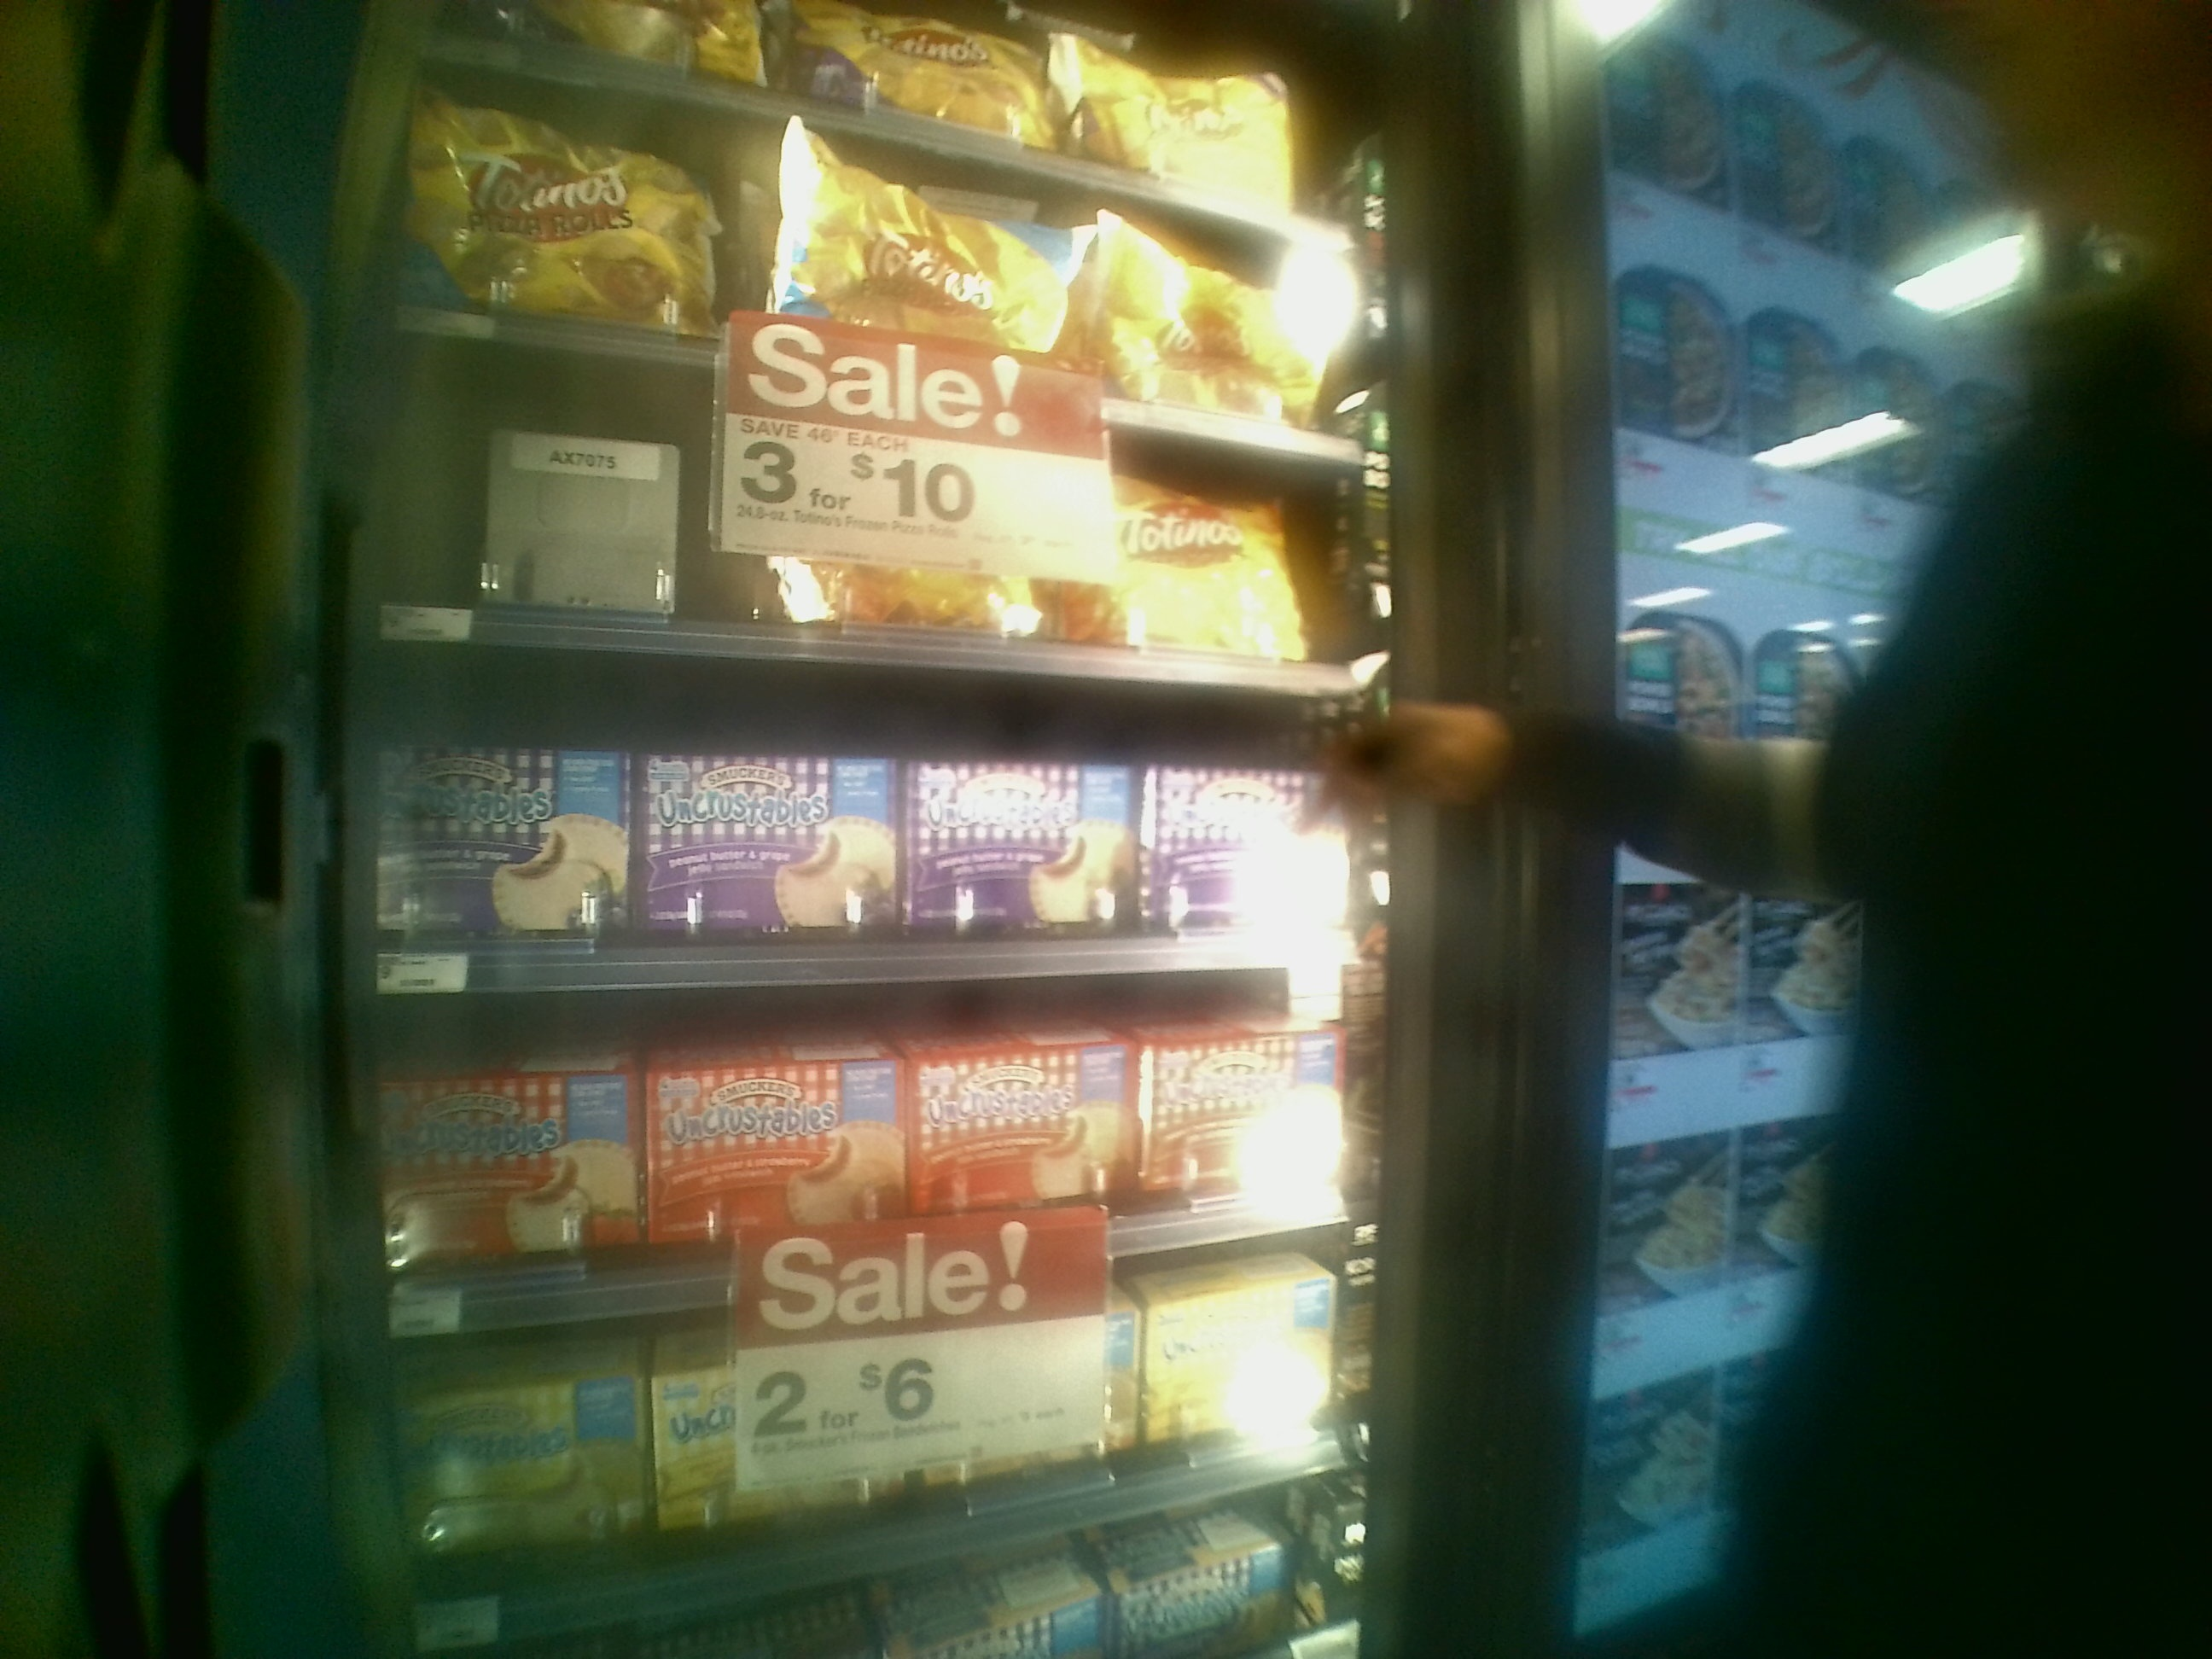shelf: (350, 981, 1378, 1290)
